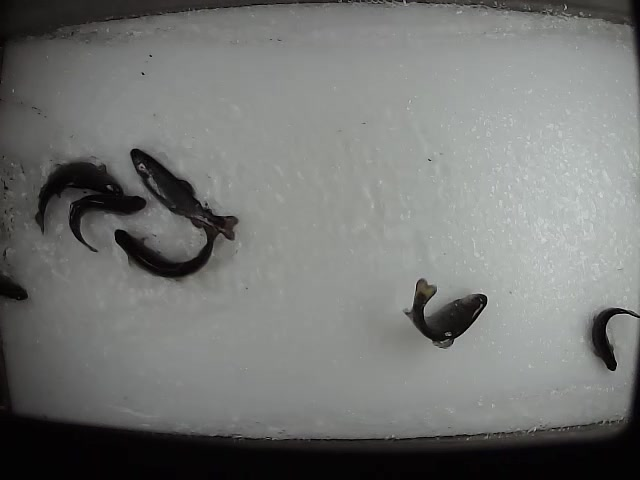fish: (126, 146, 240, 245), (32, 158, 125, 237), (112, 216, 219, 282), (402, 271, 490, 350), (65, 192, 145, 255), (587, 305, 640, 373), (79, 183, 141, 192)
